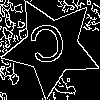C: (26, 21, 70, 74)
